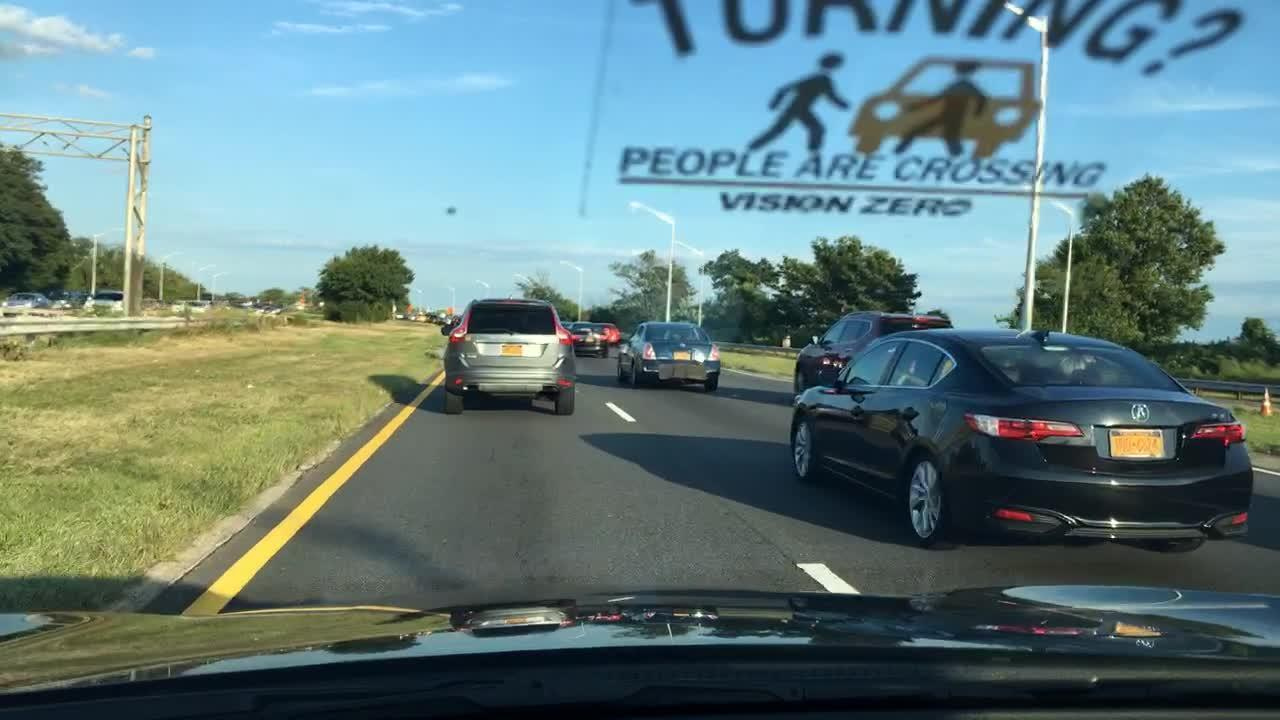acura: (1127, 400, 1159, 428)
